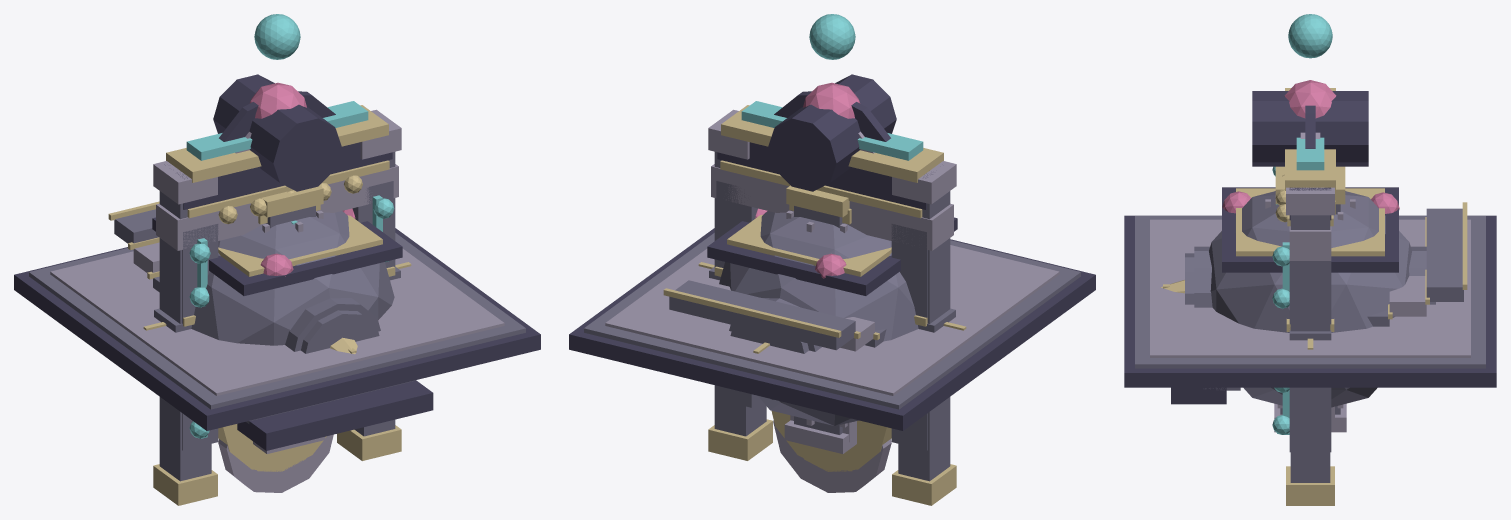
The model's file is modular_ruins_kit.glb.
3 renders of one model, left to right at view 1: azimuth 30°, elevation 25°; view 2: azimuth 150°, elevation 25°; view 3: azimuth 270°, elevation 25°, orthographic. The views are drawn at different scales.
Parts seen in each view (by area): view 1: Archive_Floor_Tile_mesh, Rift_Gate_Frame_mesh, Floating_Stone_mesh, Grand_Spire_mesh, Ornate_Arch_mesh, Grand_Staircase_mesh, Pillar_Shaft_mesh, Broken_Buttress_mesh, Fractured_Arch_Lintel_mesh; view 2: Archive_Floor_Tile_mesh, Rift_Gate_Frame_mesh, Floating_Stone_mesh, Grand_Spire_mesh, Ornate_Arch_mesh, Grand_Staircase_mesh, Pillar_Shaft_mesh, Broken_Buttress_mesh, Fractured_Arch_Lintel_mesh; view 3: Archive_Floor_Tile_mesh, Floating_Stone_mesh, Rift_Gate_Frame_mesh, Grand_Spire_mesh, Grand_Staircase_mesh, Ornate_Arch_mesh, Pillar_Shaft_mesh, Broken_Buttress_mesh, Fractured_Arch_Lintel_mesh.
Part boxes in pixels (<box>): Archive_Floor_Tile_mesh: <box>14,228,540,430</box>; Rift_Gate_Frame_mesh: <box>153,82,401,505</box>; Floating_Stone_mesh: <box>152,208,402,345</box>; Grand_Spire_mesh: <box>213,14,380,470</box>; Ornate_Arch_mesh: <box>156,160,398,450</box>; Grand_Staircase_mesh: <box>108,201,433,450</box>; Pillar_Shaft_mesh: <box>218,91,379,492</box>; Broken_Buttress_mesh: <box>253,185,325,453</box>; Fractured_Arch_Lintel_mesh: <box>154,266,400,332</box>; Archive_Floor_Tile_mesh: <box>569,228,1095,430</box>; Rift_Gate_Frame_mesh: <box>708,82,956,505</box>; Floating_Stone_mesh: <box>707,208,957,425</box>; Grand_Spire_mesh: <box>729,14,896,470</box>; Ornate_Arch_mesh: <box>711,160,953,450</box>; Grand_Staircase_mesh: <box>663,280,886,351</box>; Pillar_Shaft_mesh: <box>730,91,891,492</box>; Broken_Buttress_mesh: <box>784,185,856,453</box>; Fractured_Arch_Lintel_mesh: <box>709,266,955,332</box>; Archive_Floor_Tile_mesh: <box>1124,215,1496,387</box>; Floating_Stone_mesh: <box>1209,187,1411,407</box>; Rift_Gate_Frame_mesh: <box>1272,80,1336,505</box>; Grand_Spire_mesh: <box>1160,14,1426,307</box>; Grand_Staircase_mesh: <box>1171,202,1467,404</box>; Ornate_Arch_mesh: <box>1275,174,1333,452</box>; Pillar_Shaft_mesh: <box>1185,105,1435,408</box>; Broken_Buttress_mesh: <box>1274,166,1346,432</box>; Fractured_Arch_Lintel_mesh: <box>1286,319,1334,340</box>.
Bounding box in the file's own units: 8 × 10.85 × 8.
